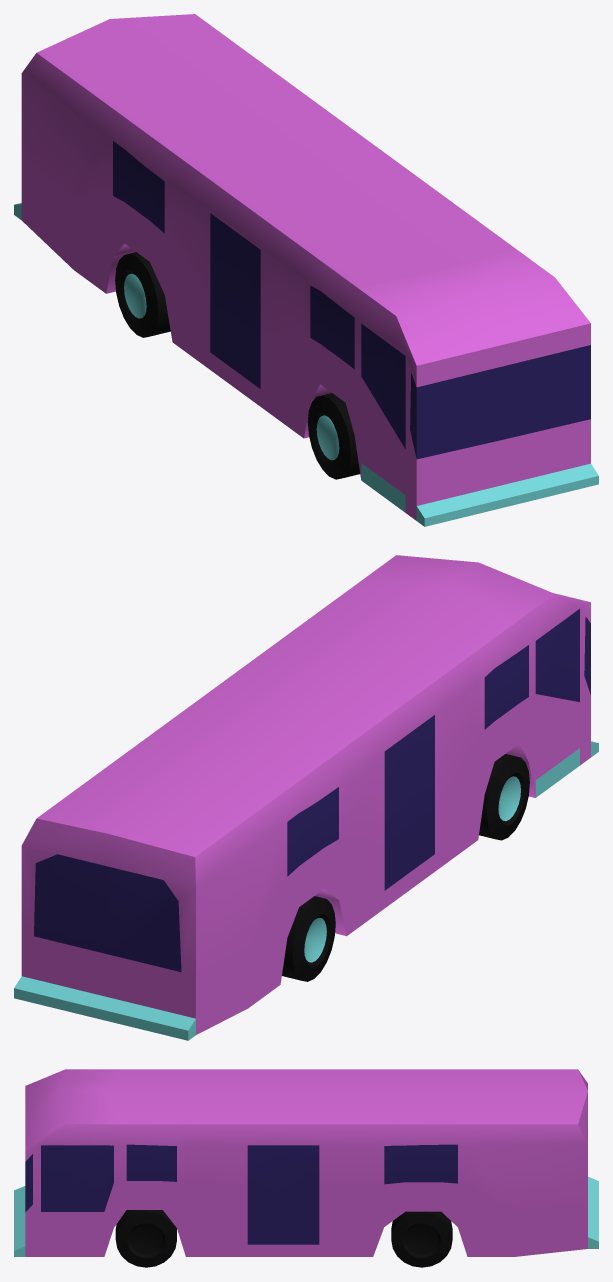
Rendered from Bus.fbx.
3 renders of one model, top to bottom at view 1: azimuth 30°, elevation 25°; view 2: azimuth 150°, elevation 25°; view 3: azimuth 270°, elevation 25°, orthographic. The views are drawn at different scales.
Visible parts, largest first — view 1: pCube17; view 2: pCube17; view 3: pCube17.
Boxes of the visible parts, left/top/right/bottom form: pCube17: left=14, top=14, right=598, bottom=526; pCube17: left=14, top=555, right=598, bottom=1040; pCube17: left=14, top=1069, right=598, bottom=1267.
Bounding box in the file's own units: 4.62 × 5.11 × 18.22.
